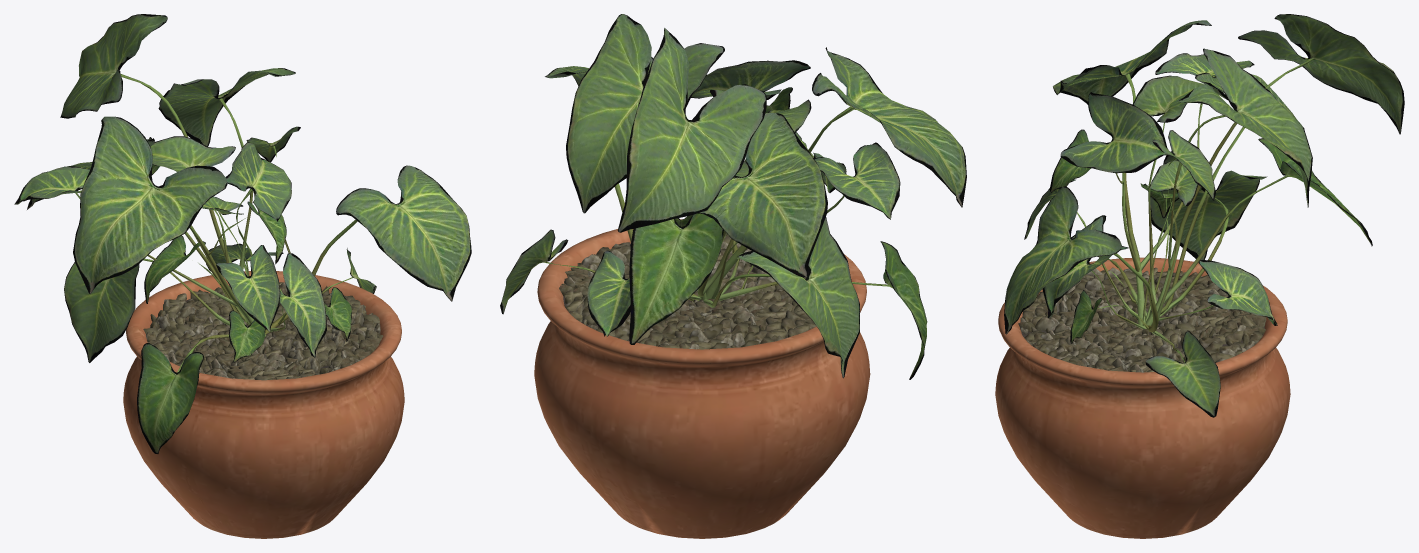
The model's file is potted_plant_02.glb.
3 views of the same model, side by side, from view 1: azimuth 30°, elevation 25°; view 2: azimuth 150°, elevation 25°; view 3: azimuth 270°, elevation 25° (orthographic). The views are drawn at different scales.
Parts seen in each view (by area): view 1: potted_plant_02_leaves, potted_plant_02_pot, potted_plant_02_dirt; view 2: potted_plant_02_leaves, potted_plant_02_pot, potted_plant_02_dirt; view 3: potted_plant_02_leaves, potted_plant_02_pot, potted_plant_02_dirt.
Part boxes in pixels (box(x1,y1,x2,y2)): potted_plant_02_leaves: box(14, 14, 471, 453); potted_plant_02_pot: box(123, 271, 404, 538); potted_plant_02_dirt: box(143, 282, 383, 380); potted_plant_02_leaves: box(500, 14, 966, 379); potted_plant_02_pot: box(534, 219, 870, 538); potted_plant_02_dirt: box(559, 233, 816, 349); potted_plant_02_leaves: box(1004, 14, 1404, 417); potted_plant_02_pot: box(995, 257, 1290, 538); potted_plant_02_dirt: box(1018, 267, 1266, 372).
Bounding box in the file's own units: 0.7009 × 0.8412 × 0.6574.
2 materials, 2 textured.
